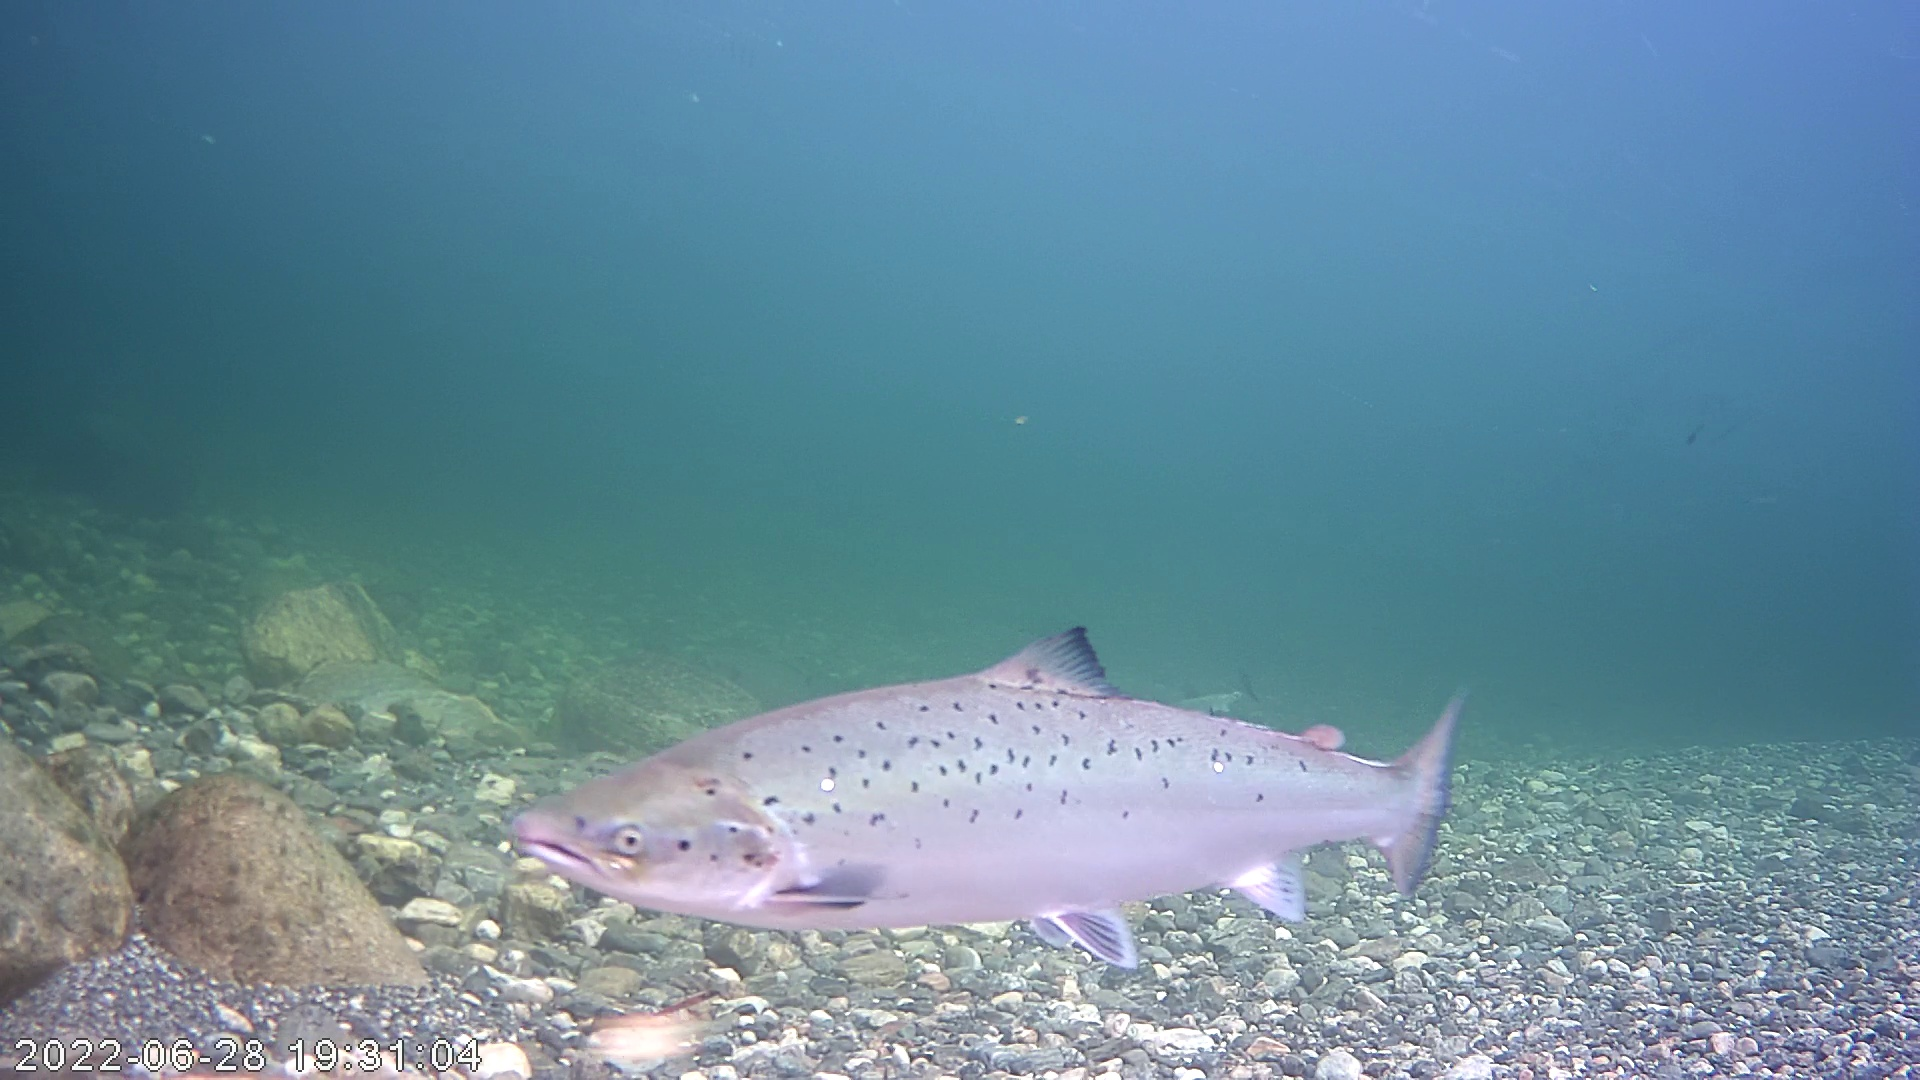salmon: (535, 582, 1472, 963)
